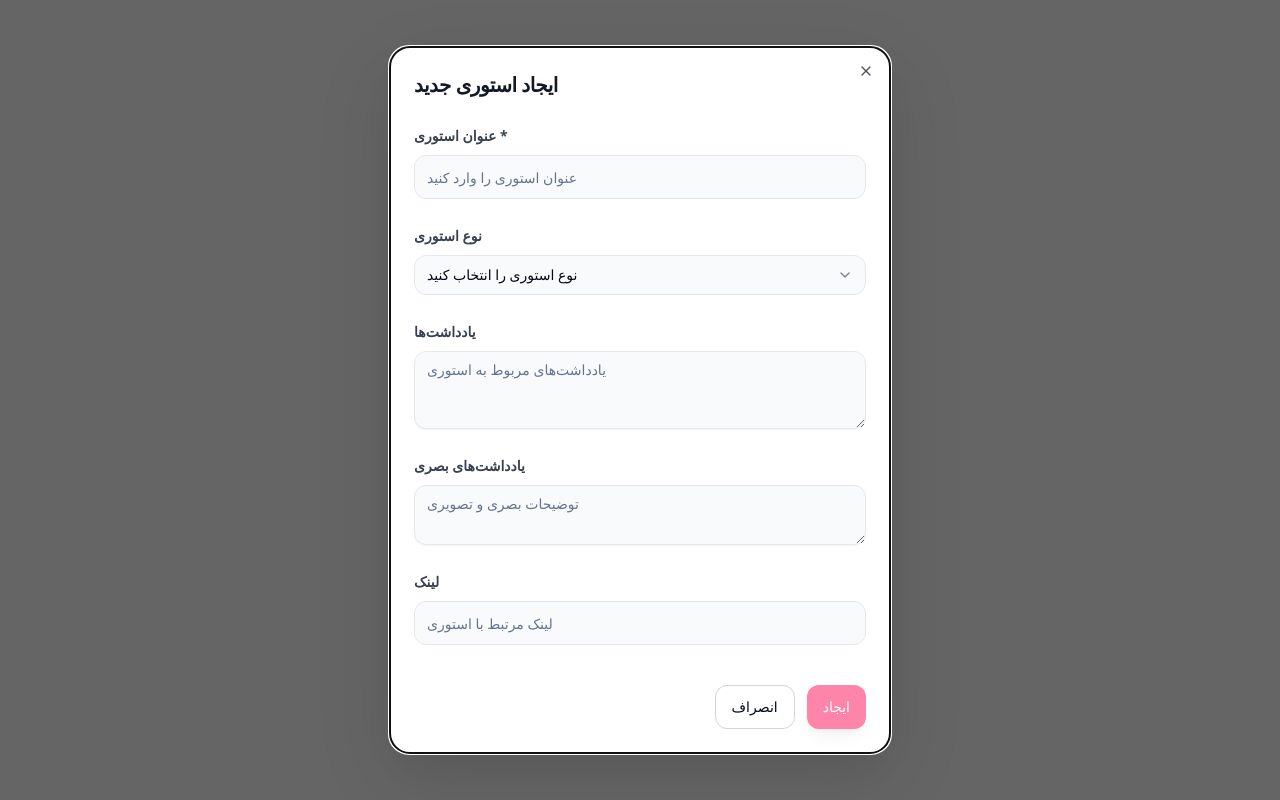
Test: CreateStoryDialog › enables submit button when title has content
Type "Test Story" into the field labelled "عنوان استوری *" at {"x": 640, "y": 177}, box x1=414 y1=155 x2=866 y2=199
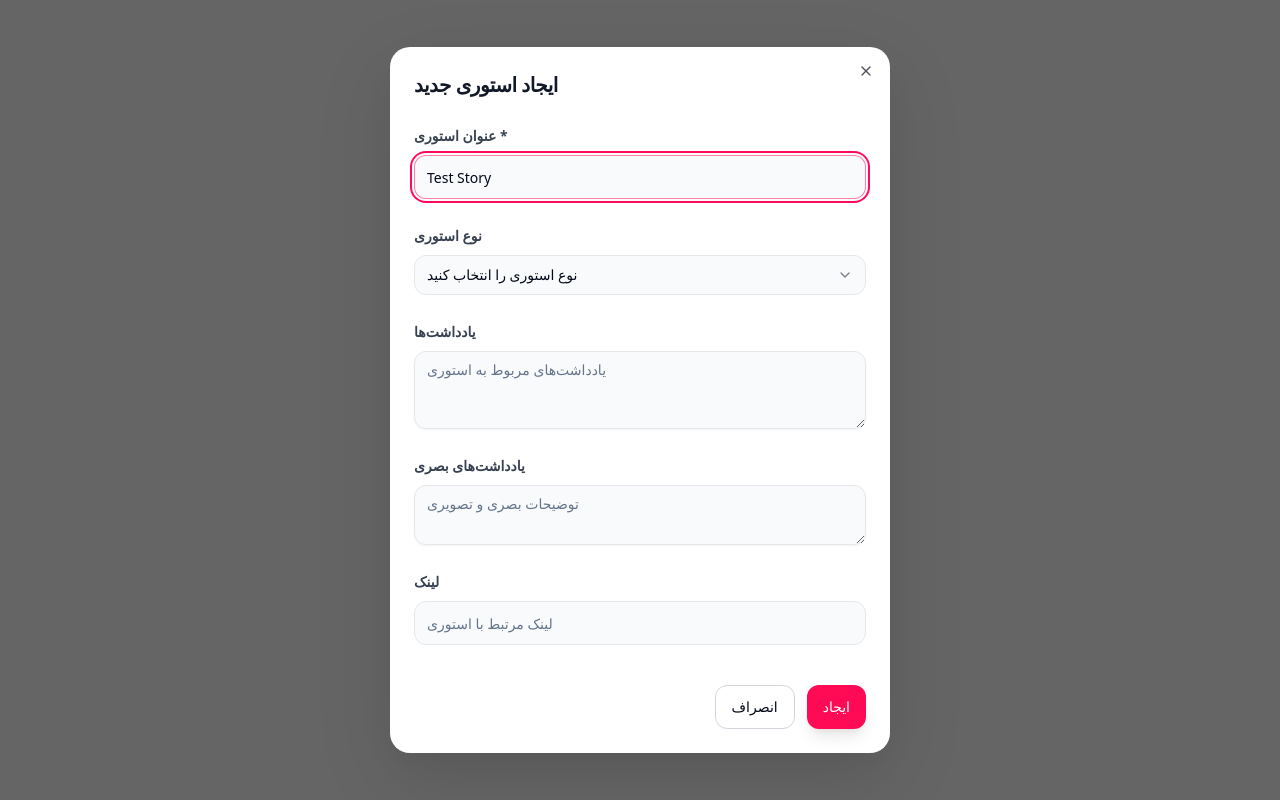
Now the button "ایجاد" is enabled, box x1=807 y1=685 x2=866 y2=729
